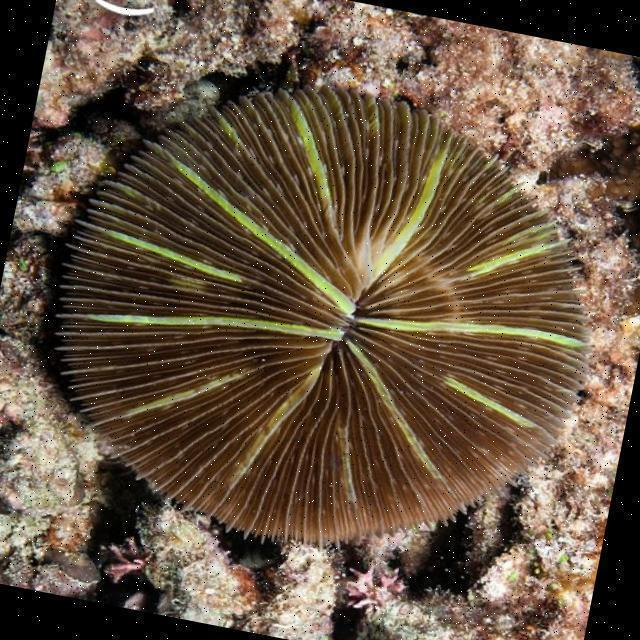Healthy Coral: (4, 43, 626, 591)
